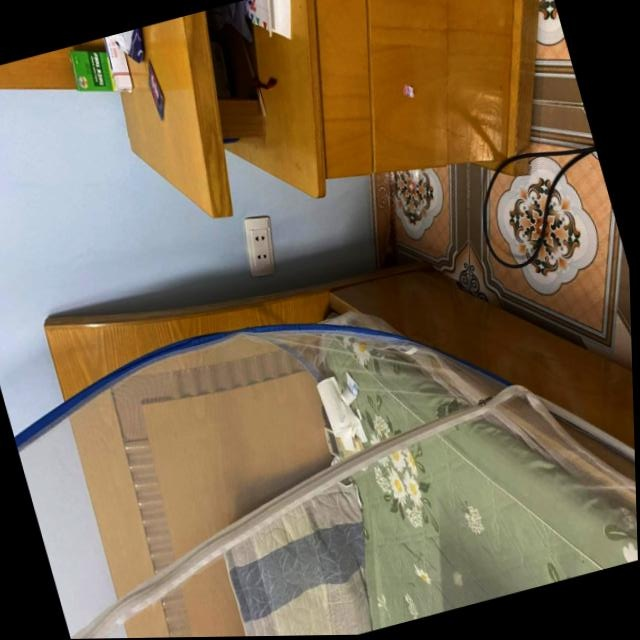outlet: (234, 213, 284, 281)
